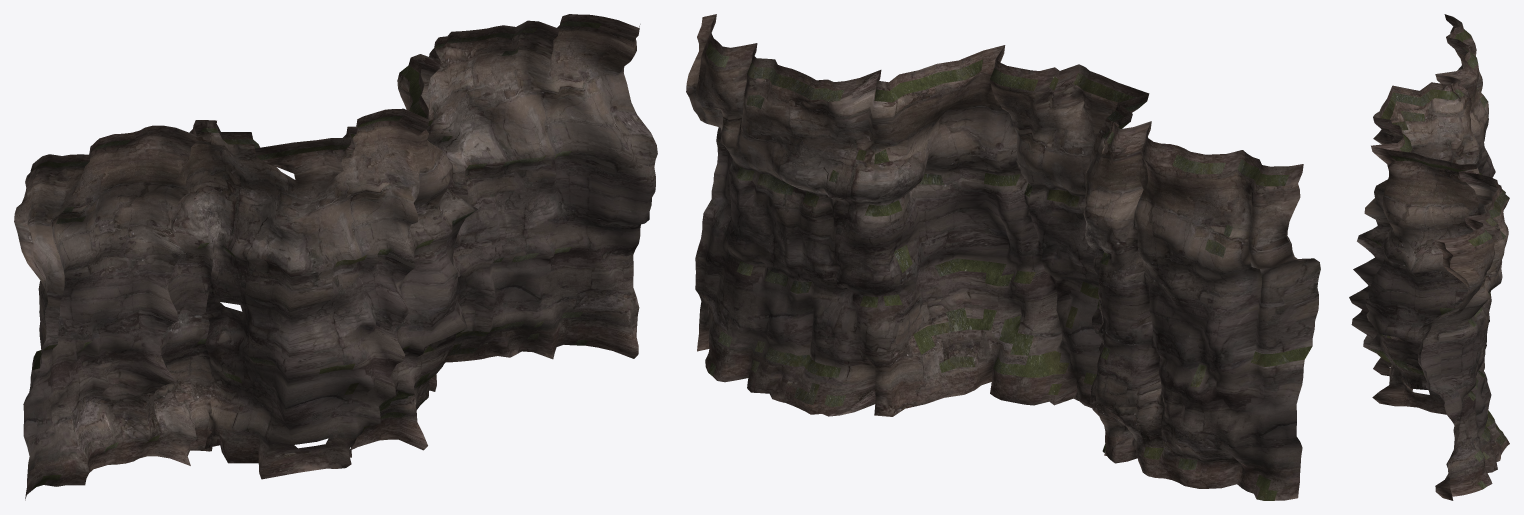
File: cliff_wall_notch_8m_deep.glb
3 renders of one model, left to right at view 1: azimuth 30°, elevation 25°; view 2: azimuth 150°, elevation 25°; view 3: azimuth 270°, elevation 25°, orthographic. The views are drawn at different scales.
Visible parts, largest first — view 1: cliff_wall_notch_8m_deep; view 2: cliff_wall_notch_8m_deep; view 3: cliff_wall_notch_8m_deep.
Boxes of the visible parts, bbox=[...] form: cliff_wall_notch_8m_deep: bbox=[14, 14, 657, 500]; cliff_wall_notch_8m_deep: bbox=[686, 14, 1320, 500]; cliff_wall_notch_8m_deep: bbox=[1349, 14, 1509, 500].
Size of the model in its own units: 8 by 4.2 by 2.38.
2 materials, 2 textured.
